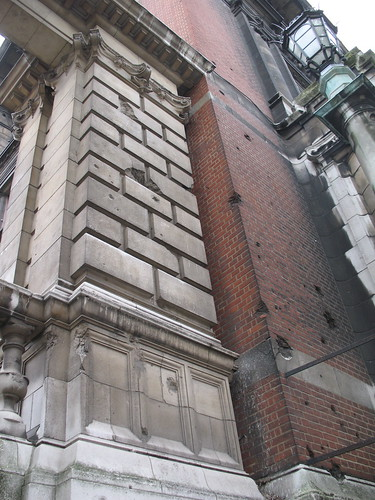building: (1, 13, 354, 500)
